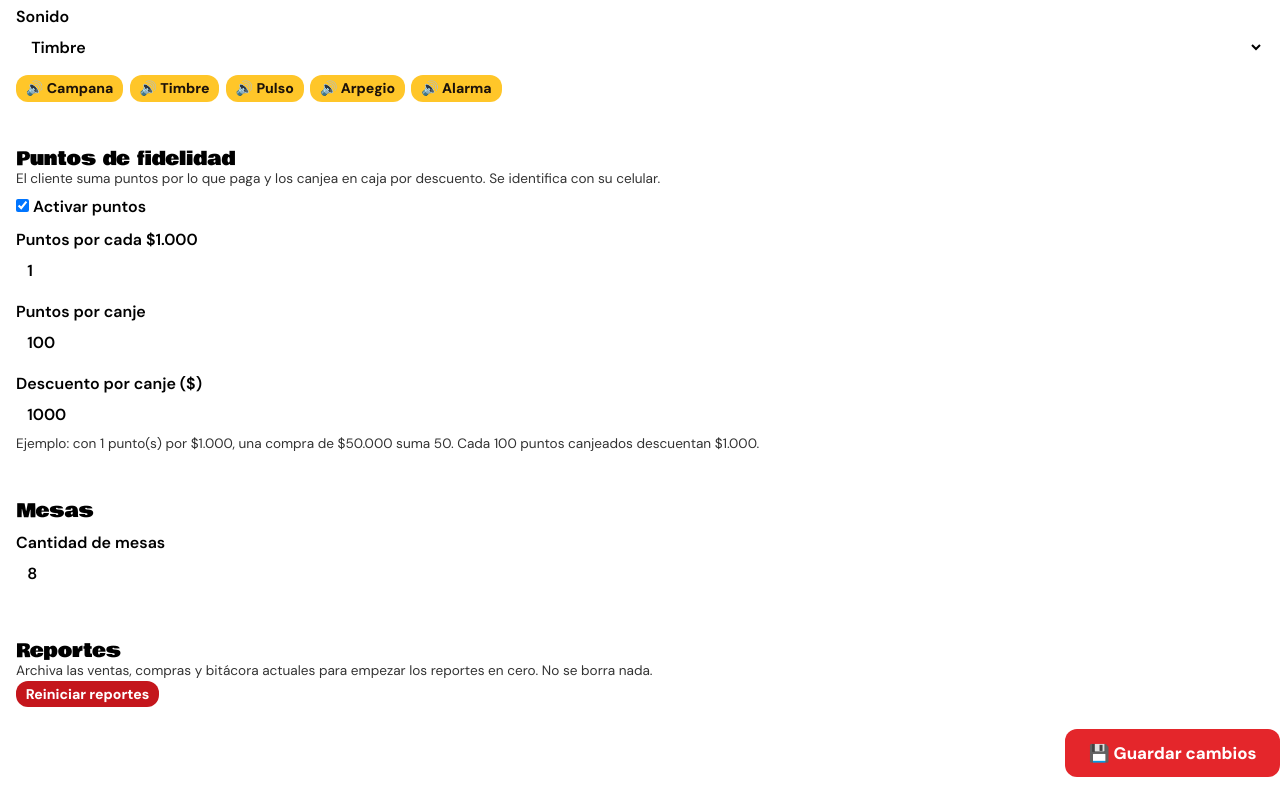
Scenario: Ajustes ola 2 › reiniciar reportes exige escribir BORRAR y muestra el resultado
(page scrolled)
Click the button "Reiniciar reportes": {"x": 88, "y": 694} [16, 681, 159, 707]
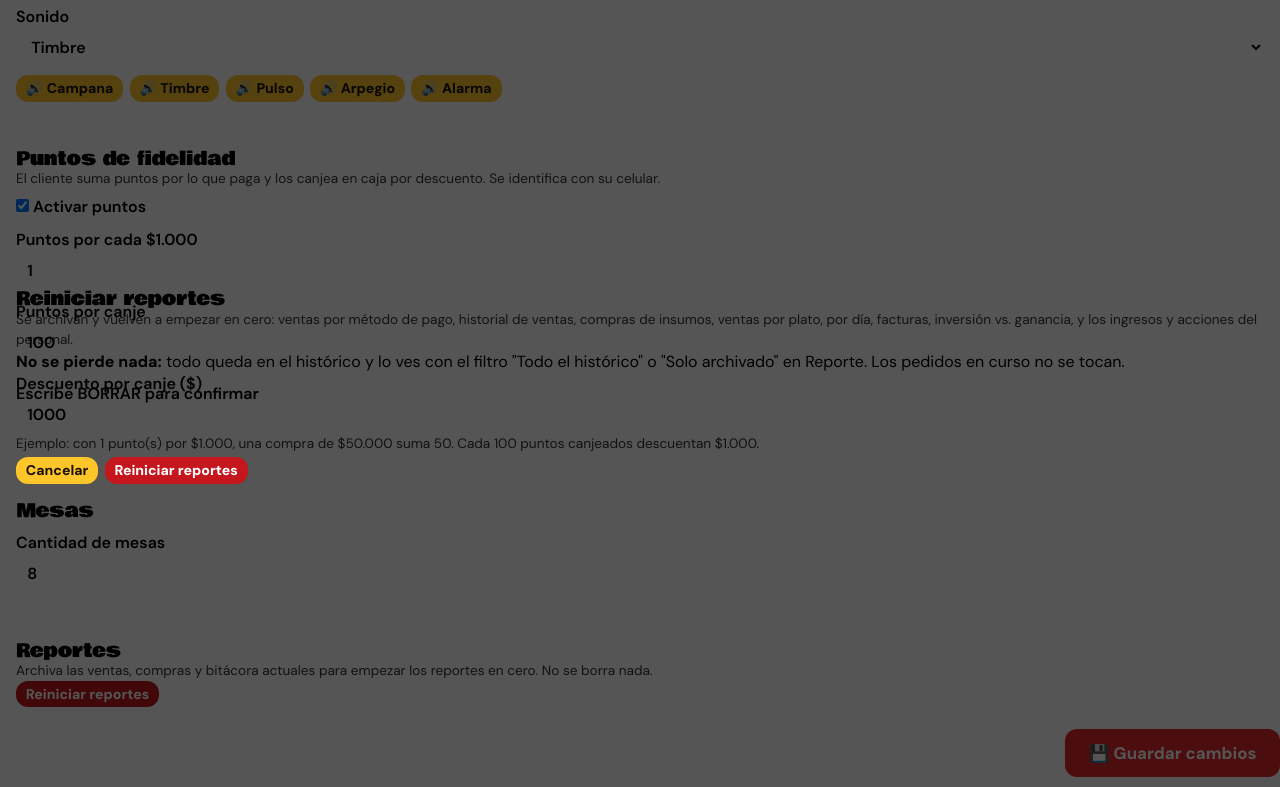
Result: the text "No se pierde nada:" is shown at [16, 350, 162, 372]
Result: the text "pedidos en curso no se tocan" is shown at [162, 350, 1125, 372]
Result: the button "Reiniciar reportes" is disabled at [105, 458, 248, 484]
In the field labelled "Escribe BORRAR para confirmar": {"x": 640, "y": 425} [16, 406, 1264, 445], type "BORRAR"
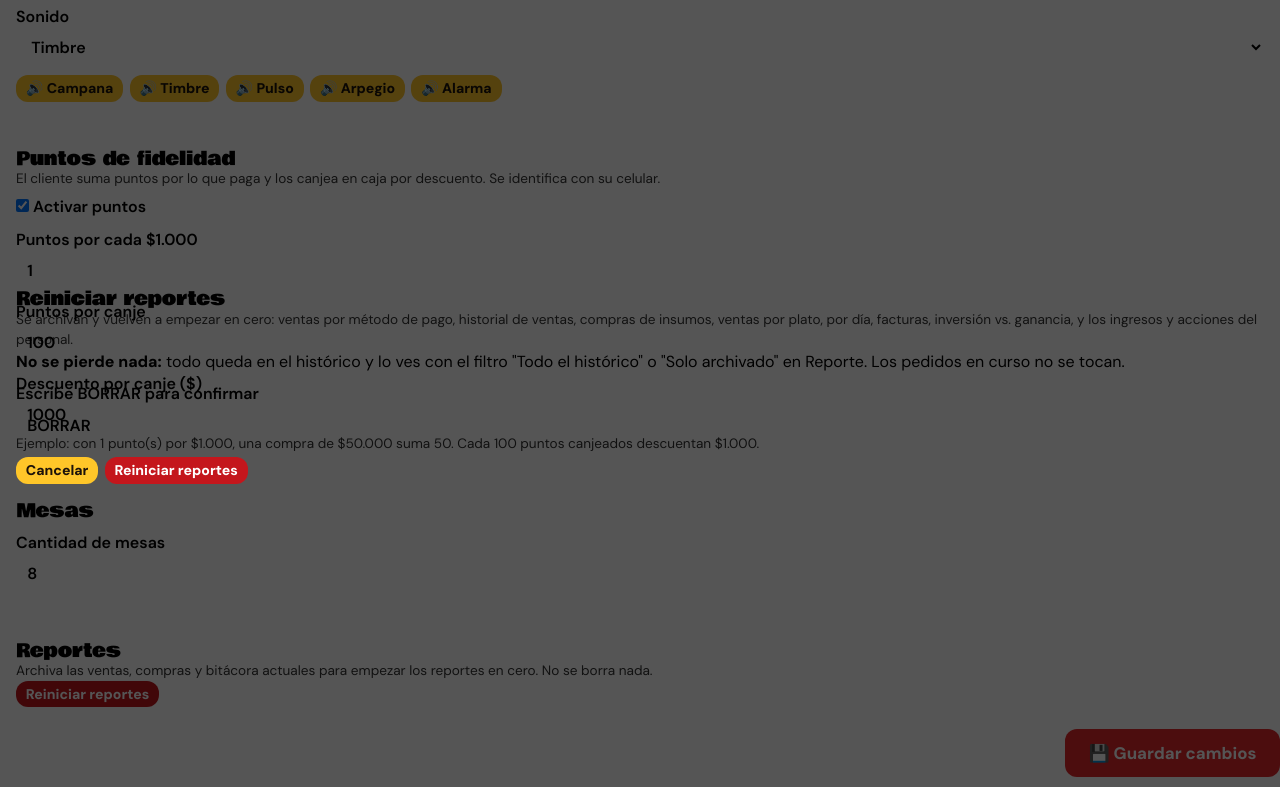
Click the button "Reiniciar reportes": {"x": 176, "y": 470} [105, 458, 248, 484]
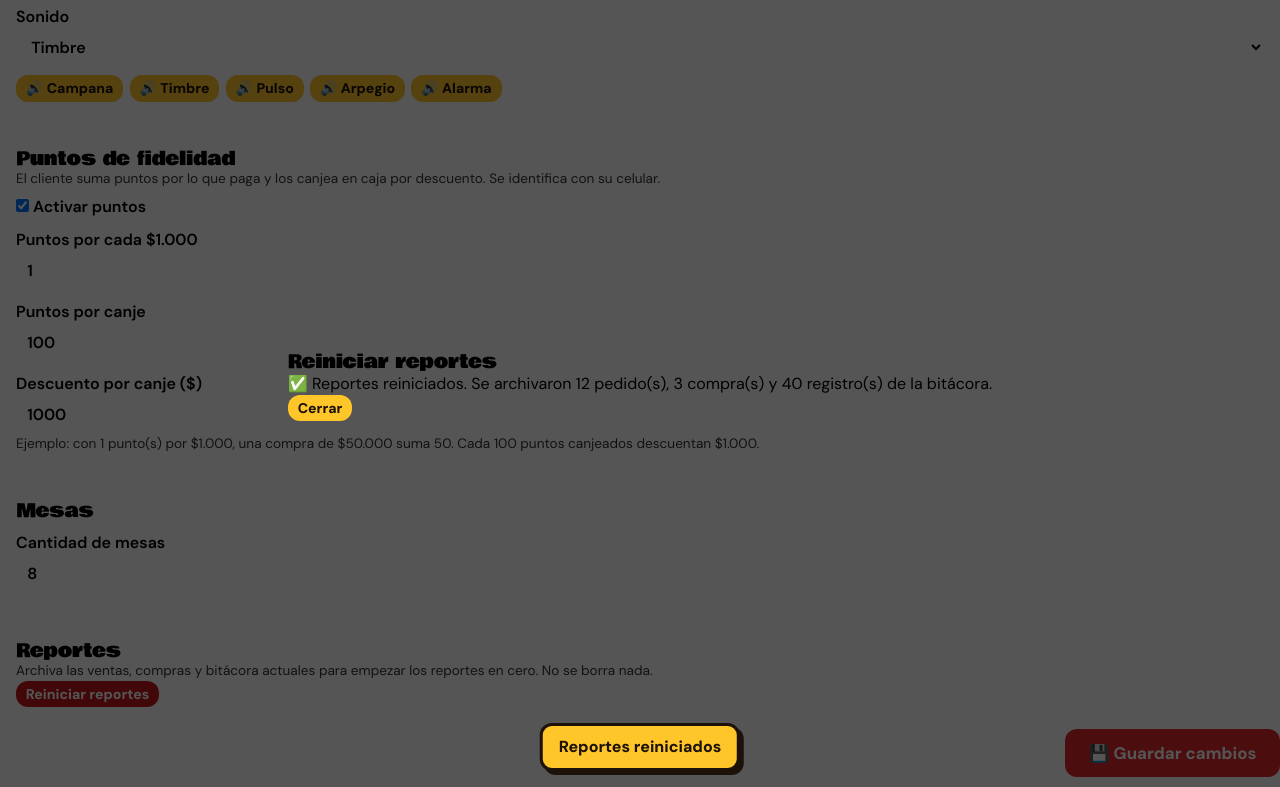
Result: the text "Se archivaron 12 pedido" is shown at [288, 372, 992, 395]
